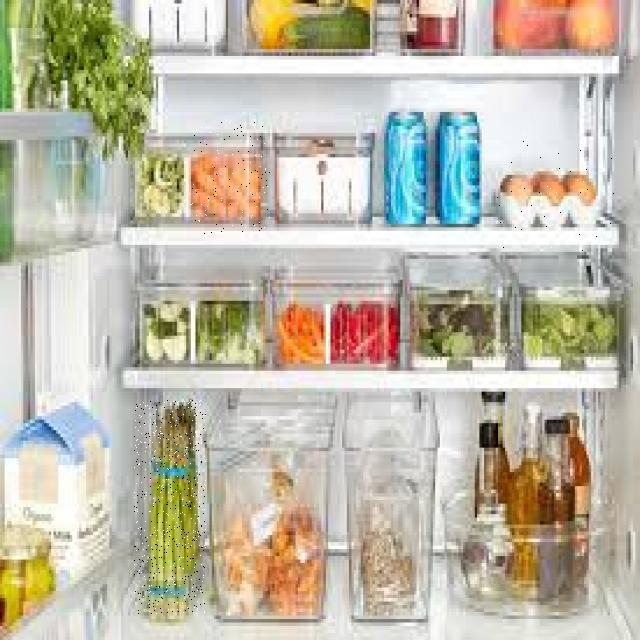asparagus: (134, 400, 207, 614)
carrots: (190, 120, 270, 236)
eggs: (494, 139, 616, 259)
